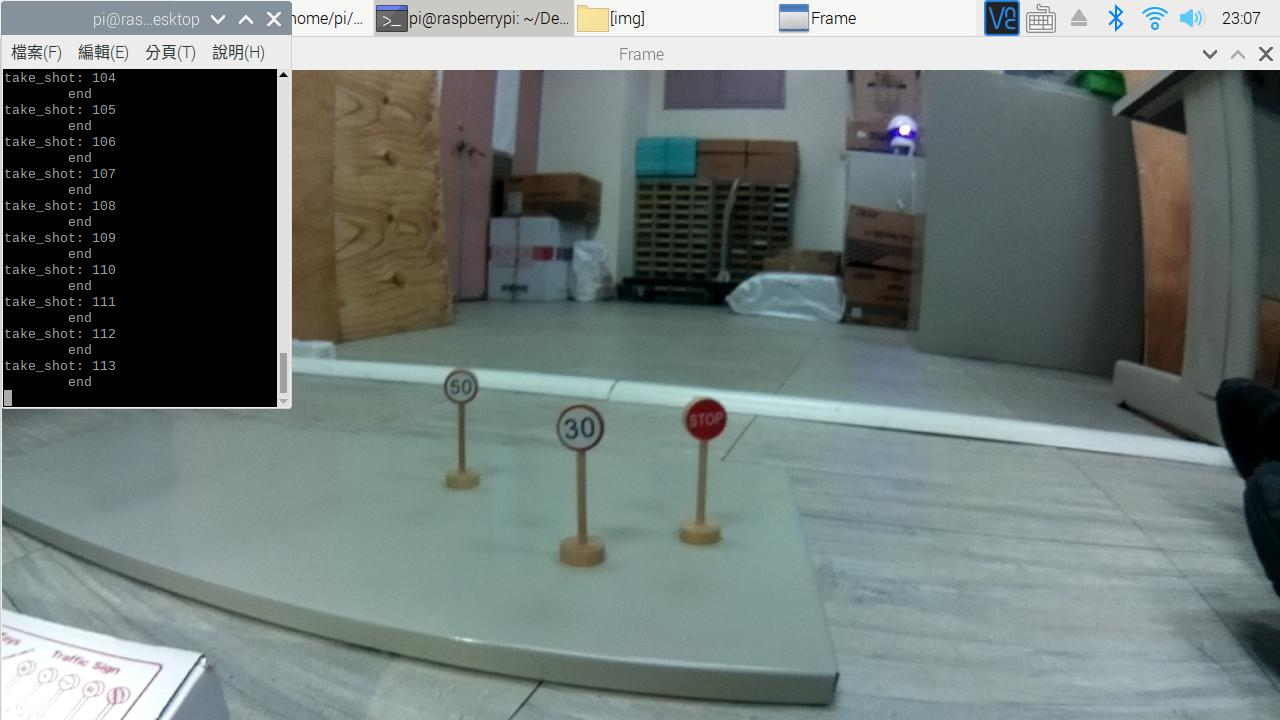Speed30: (551, 399, 605, 453)
Speed50: (431, 361, 494, 420)
Stop: (677, 396, 742, 451)
